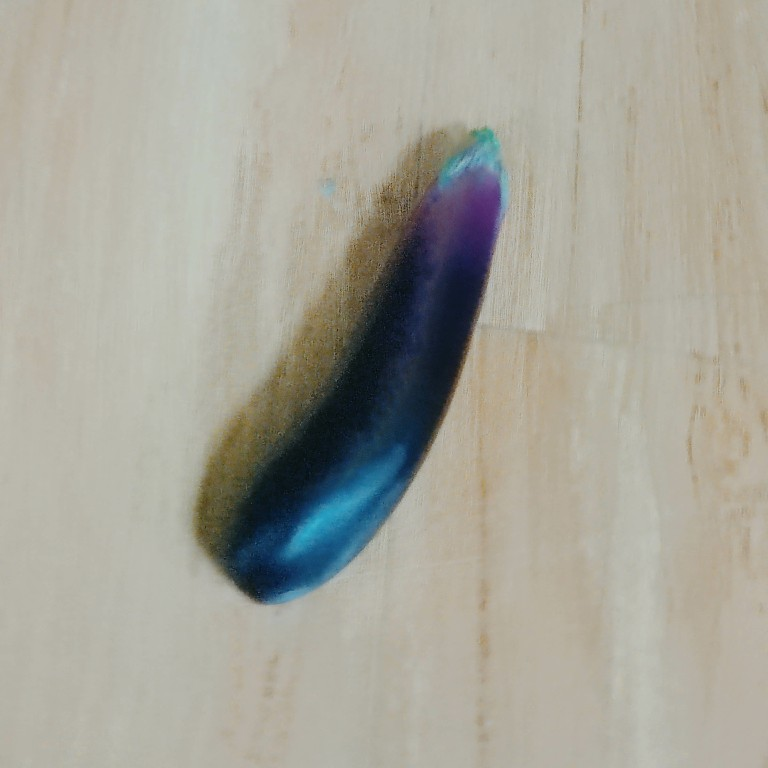fruit_eggplant: (217, 117, 511, 609)
